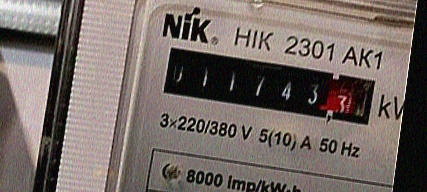0: (170, 56, 187, 85)
1: (224, 64, 241, 94), (197, 60, 214, 89)
3: (304, 79, 321, 107), (332, 92, 350, 115)
4: (278, 76, 296, 103)
7: (251, 71, 268, 97)
screen: (154, 41, 386, 133)
